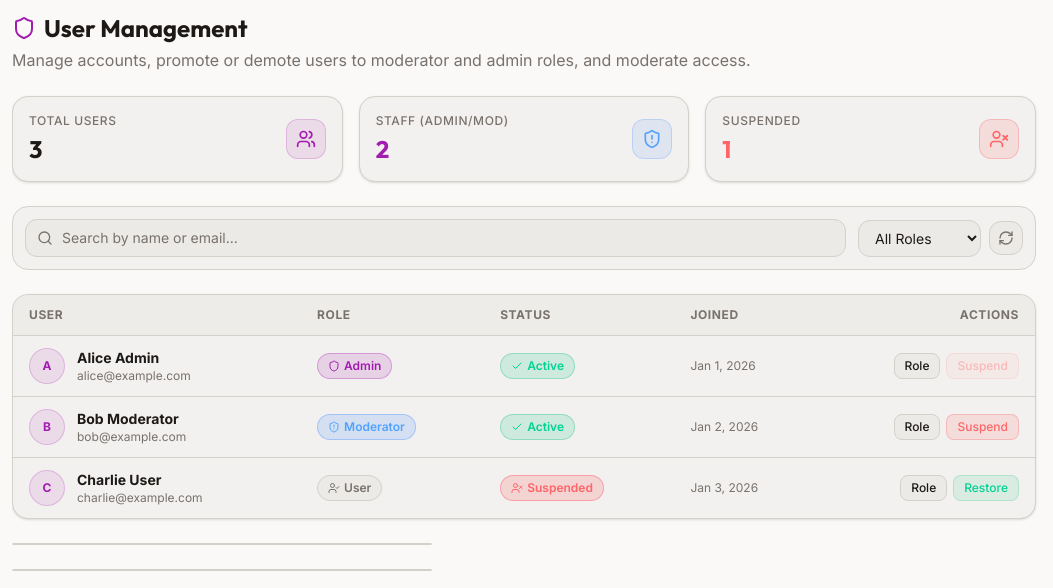
AdminUsersSettingsPage.vue › filters user list by search query
The image size is (1053, 588).
Step 1. Type "charlie" into the field with placeholder "Search by name or email..." → (436, 238), box [25, 219, 846, 257]
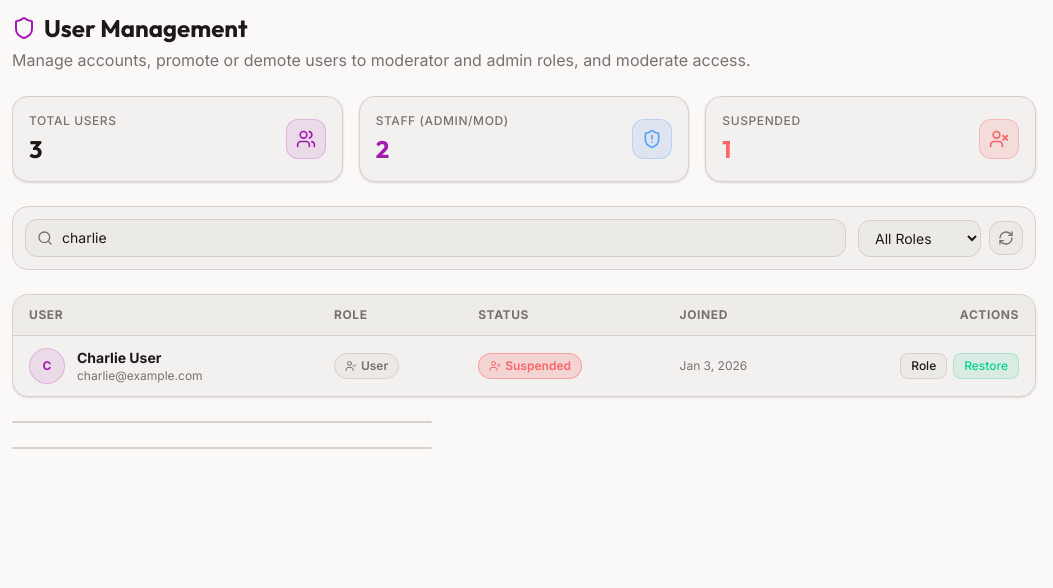
Expected: the text "Charlie User" is shown, [77, 348, 162, 368]
Now the text "Alice Admin" is gone
Now the text "Bob Moderator" is gone
